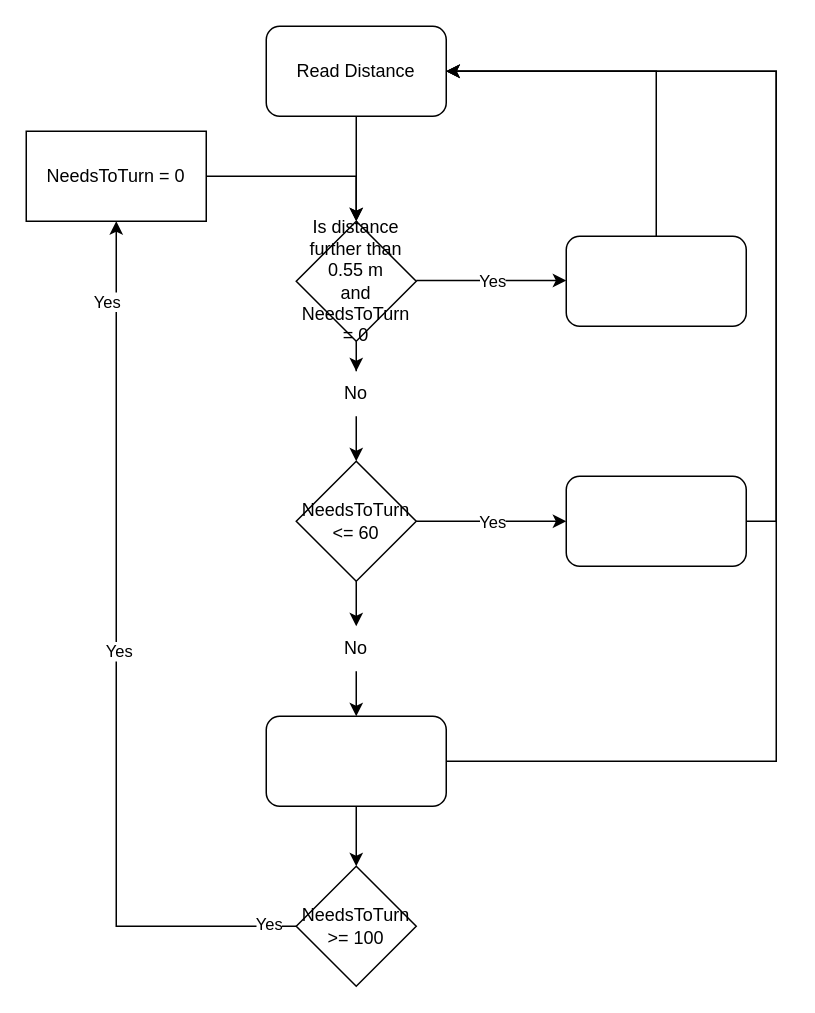
The diagram is 815 pixels wide and 1013 high, and some of its shapes have lost their labels. Here are the shapes that lost their labels. From the top down, the centre of each, then its label:
At point 655,280: "Drive Forward".
At point 655,520: "Drive Backwards NeedsToTurn + 1".
At point 355,760: "Spin Left NeedsToTurn + 1".
